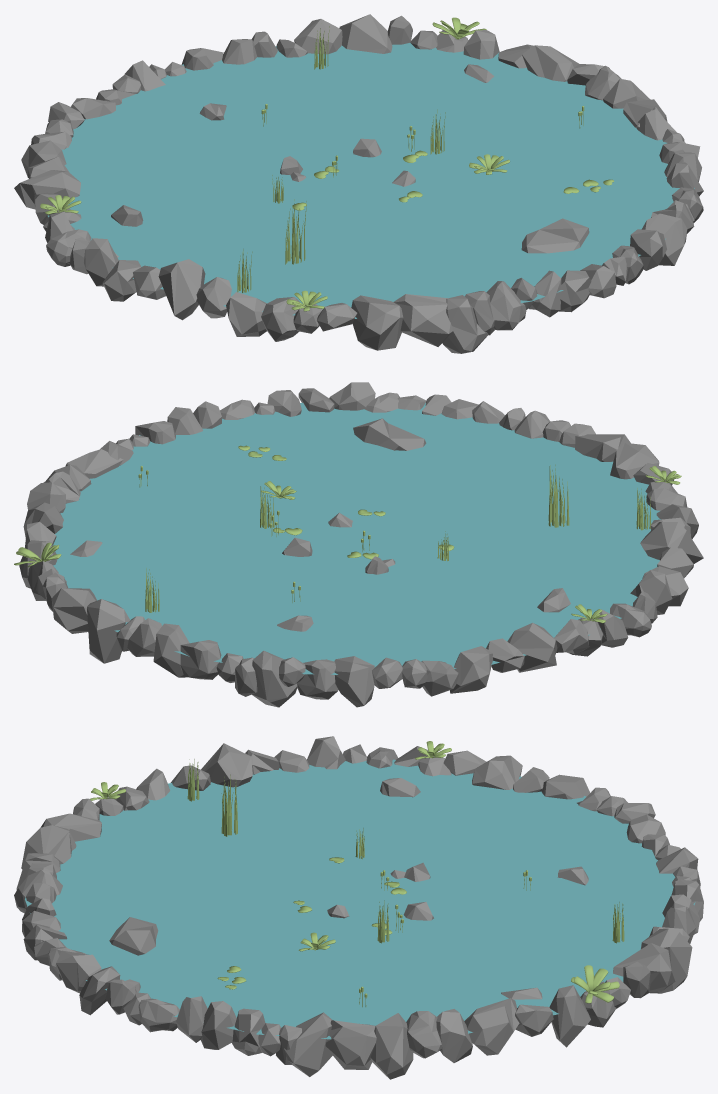
File: pond_2.fbx
3 views of the same model, one above another, from view 1: azimuth 30°, elevation 25°; view 2: azimuth 150°, elevation 25°; view 3: azimuth 270°, elevation 25° (orthographic). The views are drawn at different scales.
Parts seen in each view (by area): view 1: pond_2.001; view 2: pond_2.001; view 3: pond_2.001.
Boxes of the visible parts, bbox=[...] form: pond_2.001: bbox=[14, 14, 703, 353]; pond_2.001: bbox=[14, 382, 703, 707]; pond_2.001: bbox=[14, 736, 703, 1079].
Bounding box in the file's own units: 4302 × 695 × 4166.
